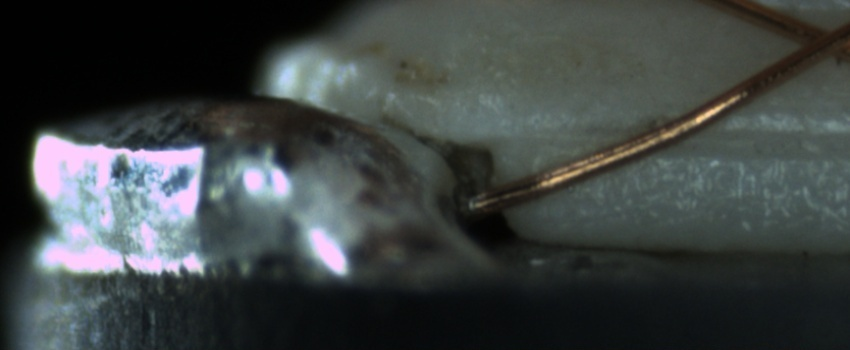CL: (775, 6, 850, 68)
DL: (529, 102, 850, 170)
